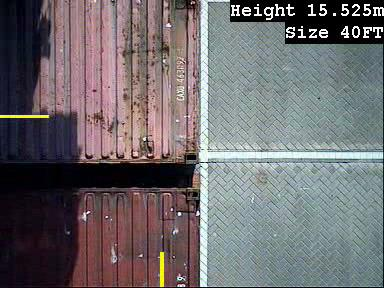groundmarker_2: (139, 38, 252, 121)
